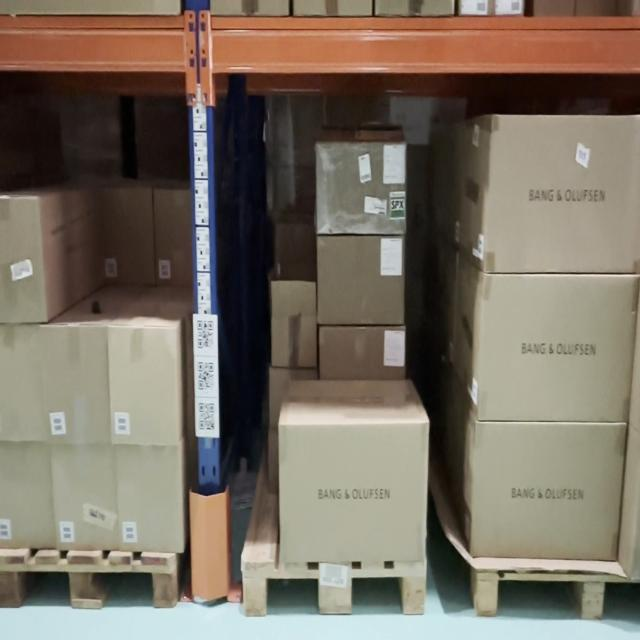box: (482, 277, 630, 420), (280, 427, 426, 562), (478, 426, 620, 564), (108, 321, 179, 442), (319, 144, 406, 235), (50, 321, 111, 450), (117, 449, 183, 556), (321, 238, 405, 320), (50, 449, 119, 543)
